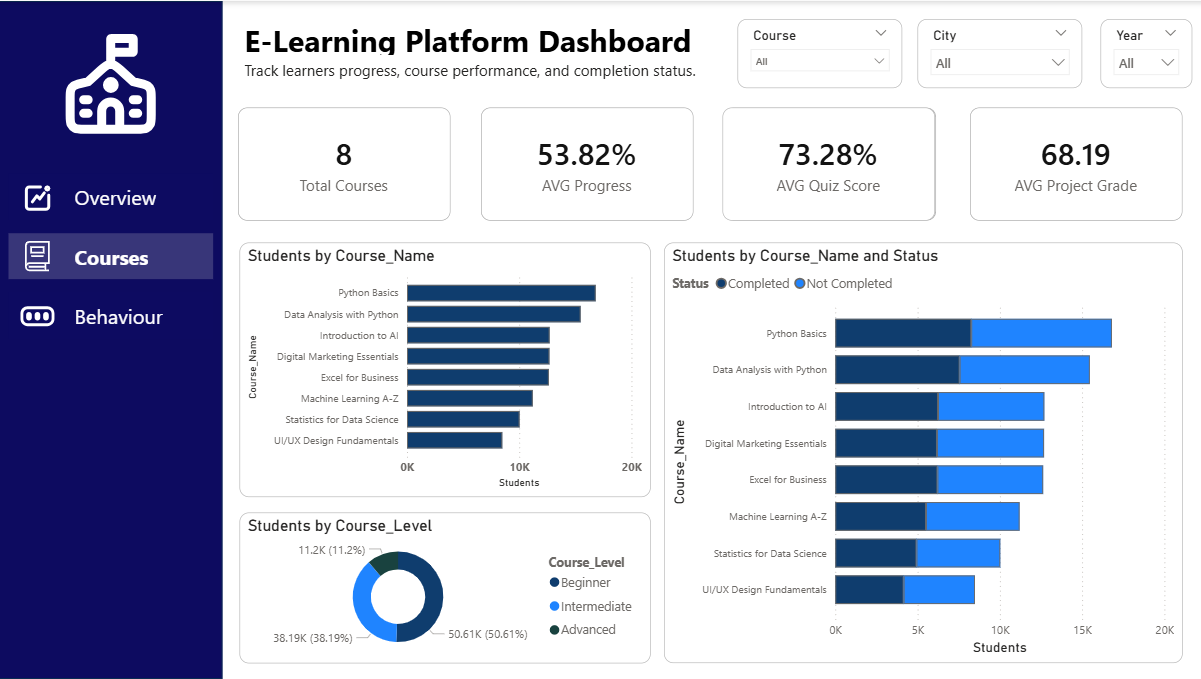

The dashboard page shown, as its layout file describes it:
{"tool":"powerbi","page":{"name":"Courses","canvas":[1280,720],"ordinal":1},"visuals":[{"type":"shape","box":[0,0,238.1,720],"z":0},{"type":"pageNavigator","box":[11.3,183.3,217.3,175.7],"z":1000},{"type":"image","box":[18.9,189,47.2,37.8],"z":2000},{"type":"image","box":[37.5,30,162.5,115],"z":3000},{"type":"image","box":[18.9,255.1,45.4,32.1],"z":4000},{"type":"image","box":[24,315,36,38],"z":5000},{"type":"textbox","box":[256,14,534,56],"z":6000},{"type":"textbox","box":[255.7,57.1,511.4,40],"z":7000},{"type":"shape","box":[255,112.5,225,120],"z":10000},{"type":"shape","box":[512.5,112.5,225,120],"z":11000},{"type":"shape","box":[770,112.5,225,120],"z":12000},{"type":"shape","box":[1030,112.5,225,120],"z":13000},{"type":"cardVisual","fields":{"Data":["fact_tbl.Total Courses"]},"box":[255,112.5,225,120],"z":14000},{"type":"cardVisual","fields":{"Data":["fact_tbl.AVG Quiz Score"]},"box":[767.5,112.5,225,120],"z":15000},{"type":"cardVisual","fields":{"Data":["fact_tbl.AVG Project Grade"]},"box":[1030,112.5,225,120],"z":16000},{"type":"cardVisual","fields":{"Data":["fact_tbl.AVG PROGRESS"]},"box":[512.5,112.5,225,120],"z":17000},{"type":"barChart","fields":{"Category":["courses_dim.Course_Name"],"Series":["fact_tbl.Completion_Status"],"Y":["CountNonNull(fact_tbl.Student_ID)"]},"box":[706,256,550,446],"z":18000},{"type":"donutChart","fields":{"Category":["courses_dim.Course_Level"],"Y":["CountNonNull(fact_tbl.Student_ID)"]},"box":[256,542,436,160],"z":19000},{"type":"barChart","fields":{"Category":["courses_dim.Course_Name"],"Y":["CountNonNull(fact_tbl.Student_ID)"]},"box":[256,256,436,270],"z":20000},{"type":"slicer","fields":{"Values":["courses_dim.Course_Name"]},"box":[784.2,19.1,175,73.2],"z":20001},{"type":"slicer","fields":{"Values":["city_dim.City"]},"box":[975,19.1,175,73.2],"z":20002},{"type":"slicer","fields":{"Values":["student_dim.Enrollment_Date.Variation.Date Hierarchy.Year"]},"box":[1169.1,19.1,97,73.2],"z":20003}]}

Visuals, with their boxes on the page's 1280x720 design canvas (x1, y1, x2, y2). These are canvas units, not pixel positions in the 1201x679 screenshot, which may show the page scaled, cropped or inside an application window:
shape: (0, 0, 238, 720)
pageNavigator: (11, 183, 229, 359)
image: (19, 189, 66, 227)
image: (38, 30, 200, 145)
image: (19, 255, 64, 287)
image: (24, 315, 60, 353)
textbox: (256, 14, 790, 70)
textbox: (256, 57, 767, 97)
shape: (255, 112, 480, 232)
shape: (512, 112, 738, 232)
shape: (770, 112, 995, 232)
shape: (1030, 112, 1255, 232)
cardVisual - fact_tbl.Total Courses: (255, 112, 480, 232)
cardVisual - fact_tbl.AVG Quiz Score: (768, 112, 992, 232)
cardVisual - fact_tbl.AVG Project Grade: (1030, 112, 1255, 232)
cardVisual - fact_tbl.AVG PROGRESS: (512, 112, 738, 232)
barChart - courses_dim.Course_Name x fact_tbl.Completion_Status: (706, 256, 1256, 702)
donutChart - courses_dim.Course_Level x CountNonNull(fact_tbl.Student_ID): (256, 542, 692, 702)
barChart - courses_dim.Course_Name x CountNonNull(fact_tbl.Student_ID): (256, 256, 692, 526)
slicer - courses_dim.Course_Name: (784, 19, 959, 92)
slicer - city_dim.City: (975, 19, 1150, 92)
slicer - student_dim.Enrollment_Date.Variation.Date Hierarchy.Year: (1169, 19, 1266, 92)
